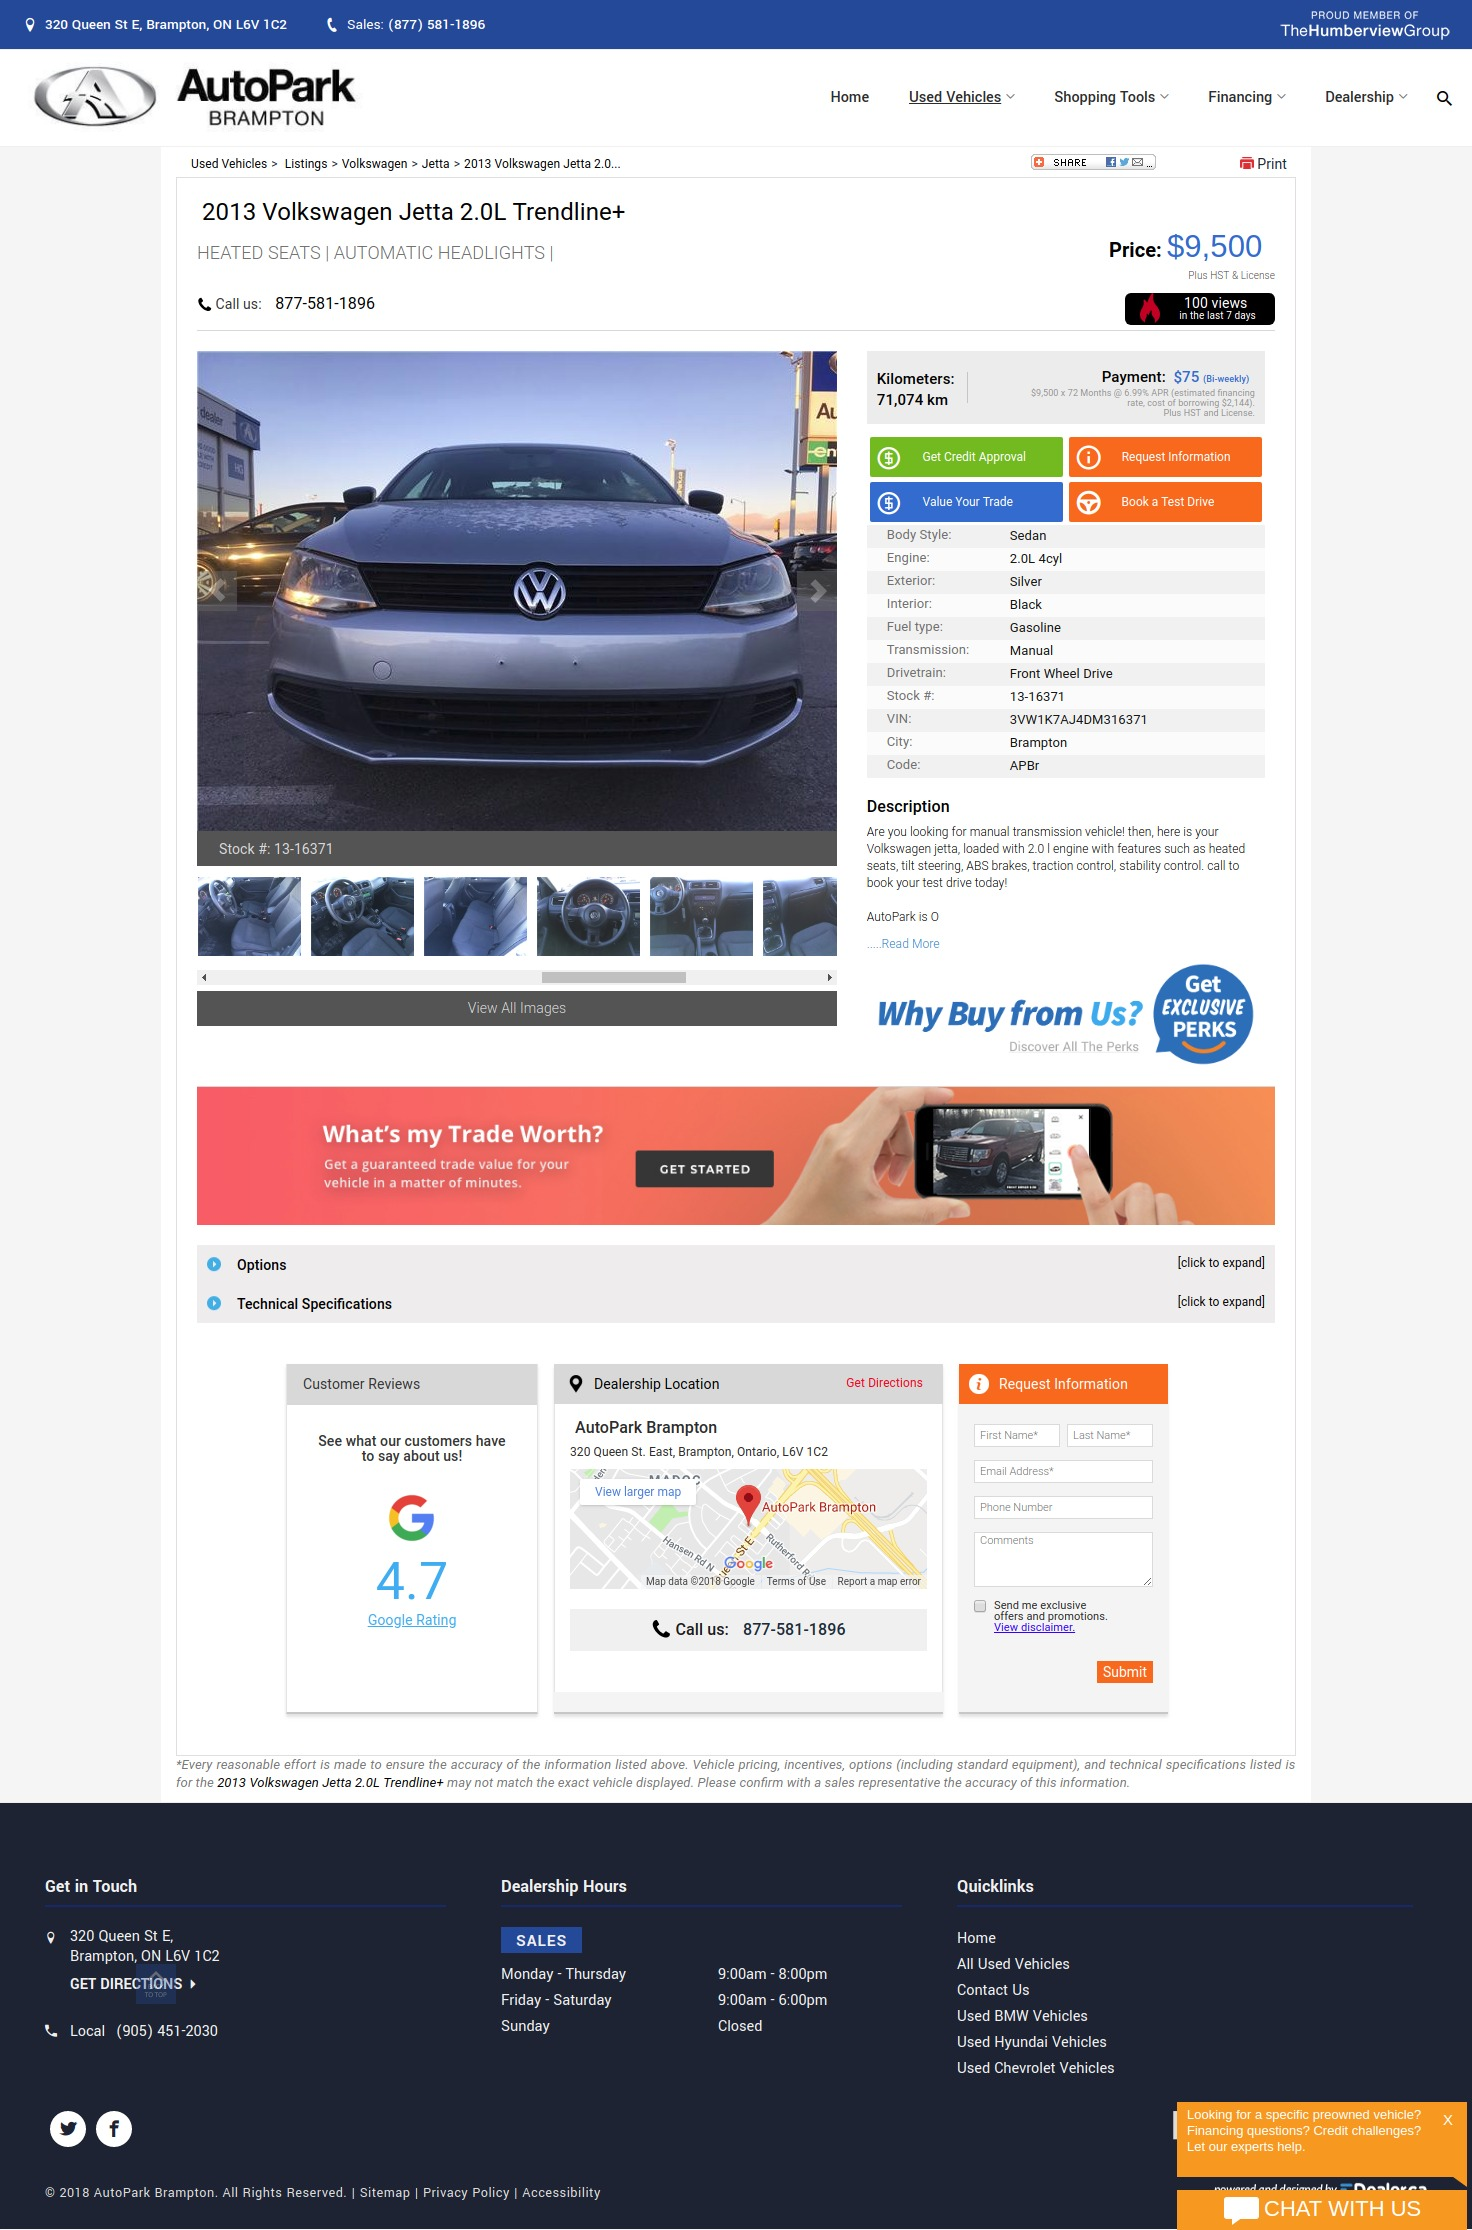car: (825, 969, 838, 987)
